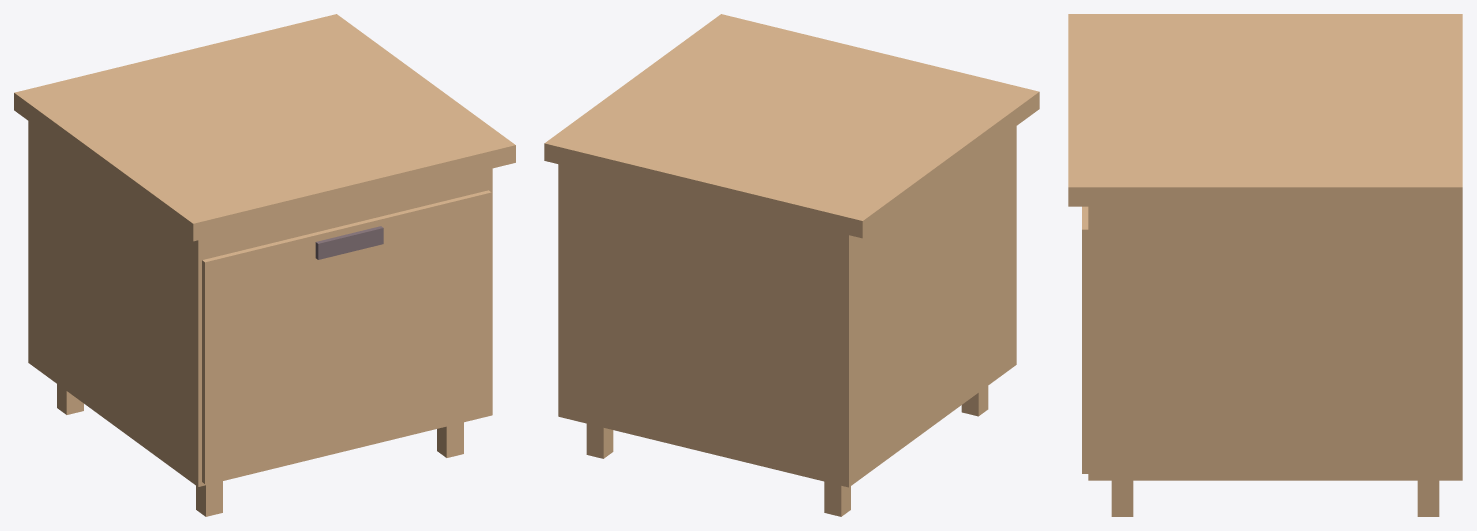
Rendered from Closet 2.fbx.
The picture shows the model from 3 angles, left to right: view 1: azimuth 30°, elevation 25°; view 2: azimuth 150°, elevation 25°; view 3: azimuth 270°, elevation 25°; orthographic projection. The views are drawn at different scales.
Visible parts, largest first — view 1: Cube.002; view 2: Cube.002; view 3: Cube.002.
Boxes of the visible parts, x1,y1,x2,y2 form: Cube.002: [14, 14, 515, 516]; Cube.002: [544, 14, 1039, 516]; Cube.002: [1068, 14, 1462, 516].
Bounding box in the file's own units: 181 × 169 × 174.
